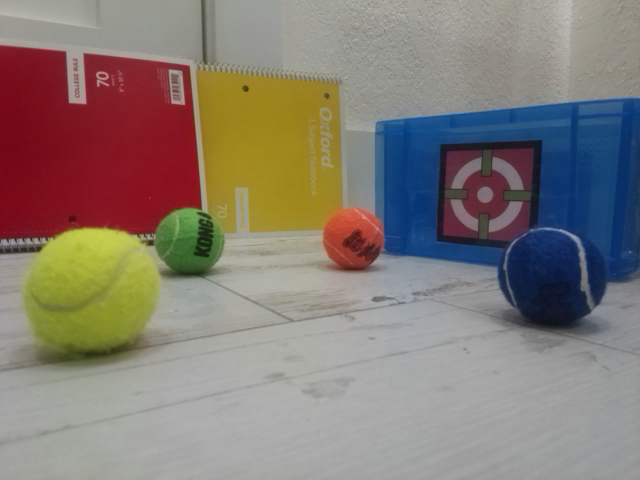blue-ball: (497, 226, 608, 327)
drop-bin: (436, 138, 543, 250)
green-ball: (154, 206, 225, 274)
orange-ball: (322, 206, 385, 271)
yellow-ball: (22, 225, 160, 358)
